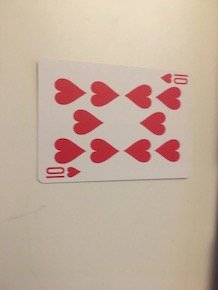TenOfHearts: (31, 55, 194, 190)
